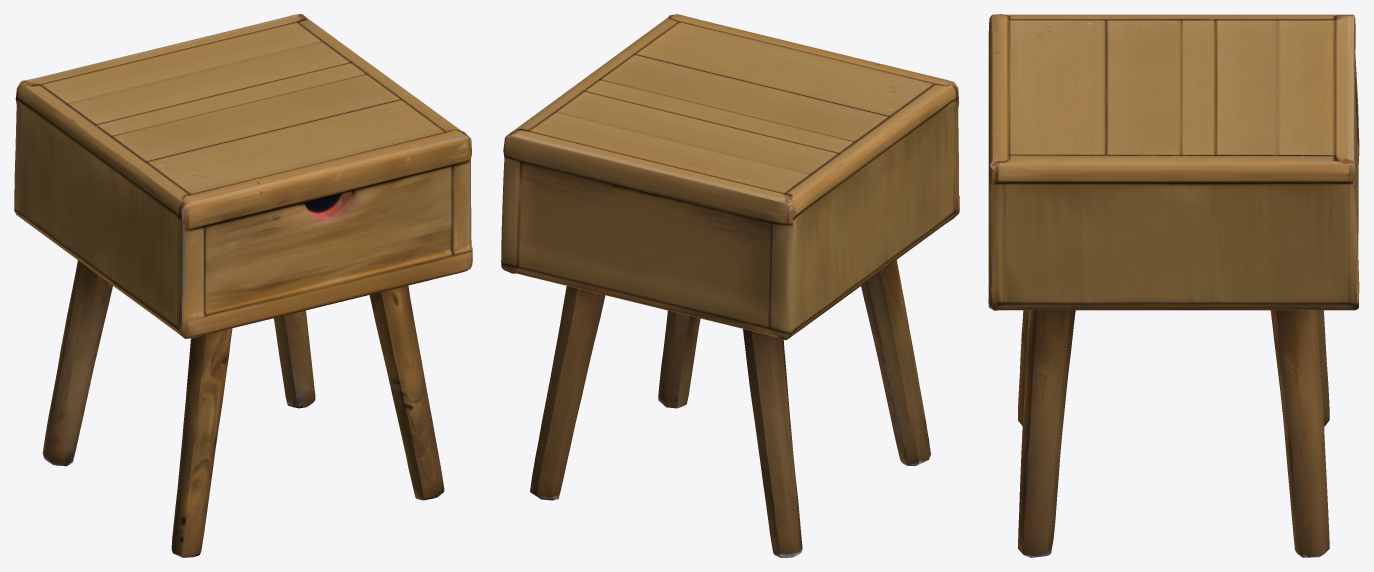
File: TableChevetSalon3_3D_textured.glb
3 views of the same model, side by side, from view 1: azimuth 30°, elevation 25°; view 2: azimuth 150°, elevation 25°; view 3: azimuth 270°, elevation 25° (orthographic). The views are drawn at different scales.
Parts seen in each view (by area): view 1: temp_mesh.ply; view 2: temp_mesh.ply; view 3: temp_mesh.ply.
Part boxes in pixels (x1,y1,x2,y2): temp_mesh.ply: (14,14,472,557); temp_mesh.ply: (501,14,959,557); temp_mesh.ply: (988,14,1359,557).
Size of the model in its own units: 1.62 by 1.97 by 1.64.
1 material, 1 textured.
